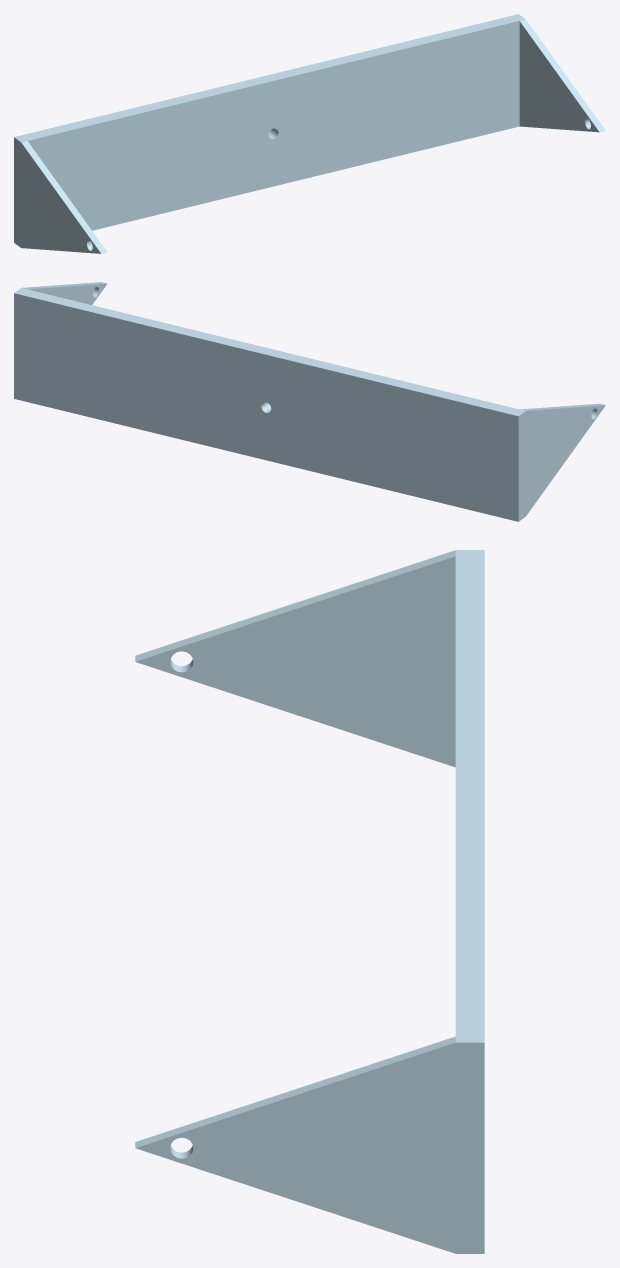
The model's file is A Axis.gltf.
The picture shows the model from 3 angles, top to bottom: view 1: azimuth 30°, elevation 25°; view 2: azimuth 150°, elevation 25°; view 3: azimuth 270°, elevation 25°; orthographic projection. The views are drawn at different scales.
Visible parts, largest first — view 1: mesh40, mesh37, mesh31, mesh35, mesh43, mesh33; view 2: mesh38, mesh37, mesh35, mesh31; view 3: mesh34, mesh41, mesh35, mesh43, mesh33.
Part boxes in pixels (box(x1,y1,x2,y2)): mesh40: box(28, 21, 519, 230); mesh37: box(14, 137, 100, 253); mesh31: box(519, 21, 599, 132); mesh35: box(14, 14, 525, 142); mesh43: box(21, 141, 107, 253); mesh33: box(520, 19, 605, 132); mesh38: box(14, 293, 518, 521); mesh37: box(518, 405, 605, 521); mesh35: box(14, 288, 525, 416); mesh31: box(28, 283, 107, 304); mesh34: box(135, 1042, 484, 1253); mesh41: box(135, 556, 455, 767); mesh35: box(455, 550, 484, 1042); mesh43: box(135, 550, 455, 661); mesh33: box(135, 1036, 455, 1147).
Size of the model in its own units: 0.2 by 0.04 by 0.06.
